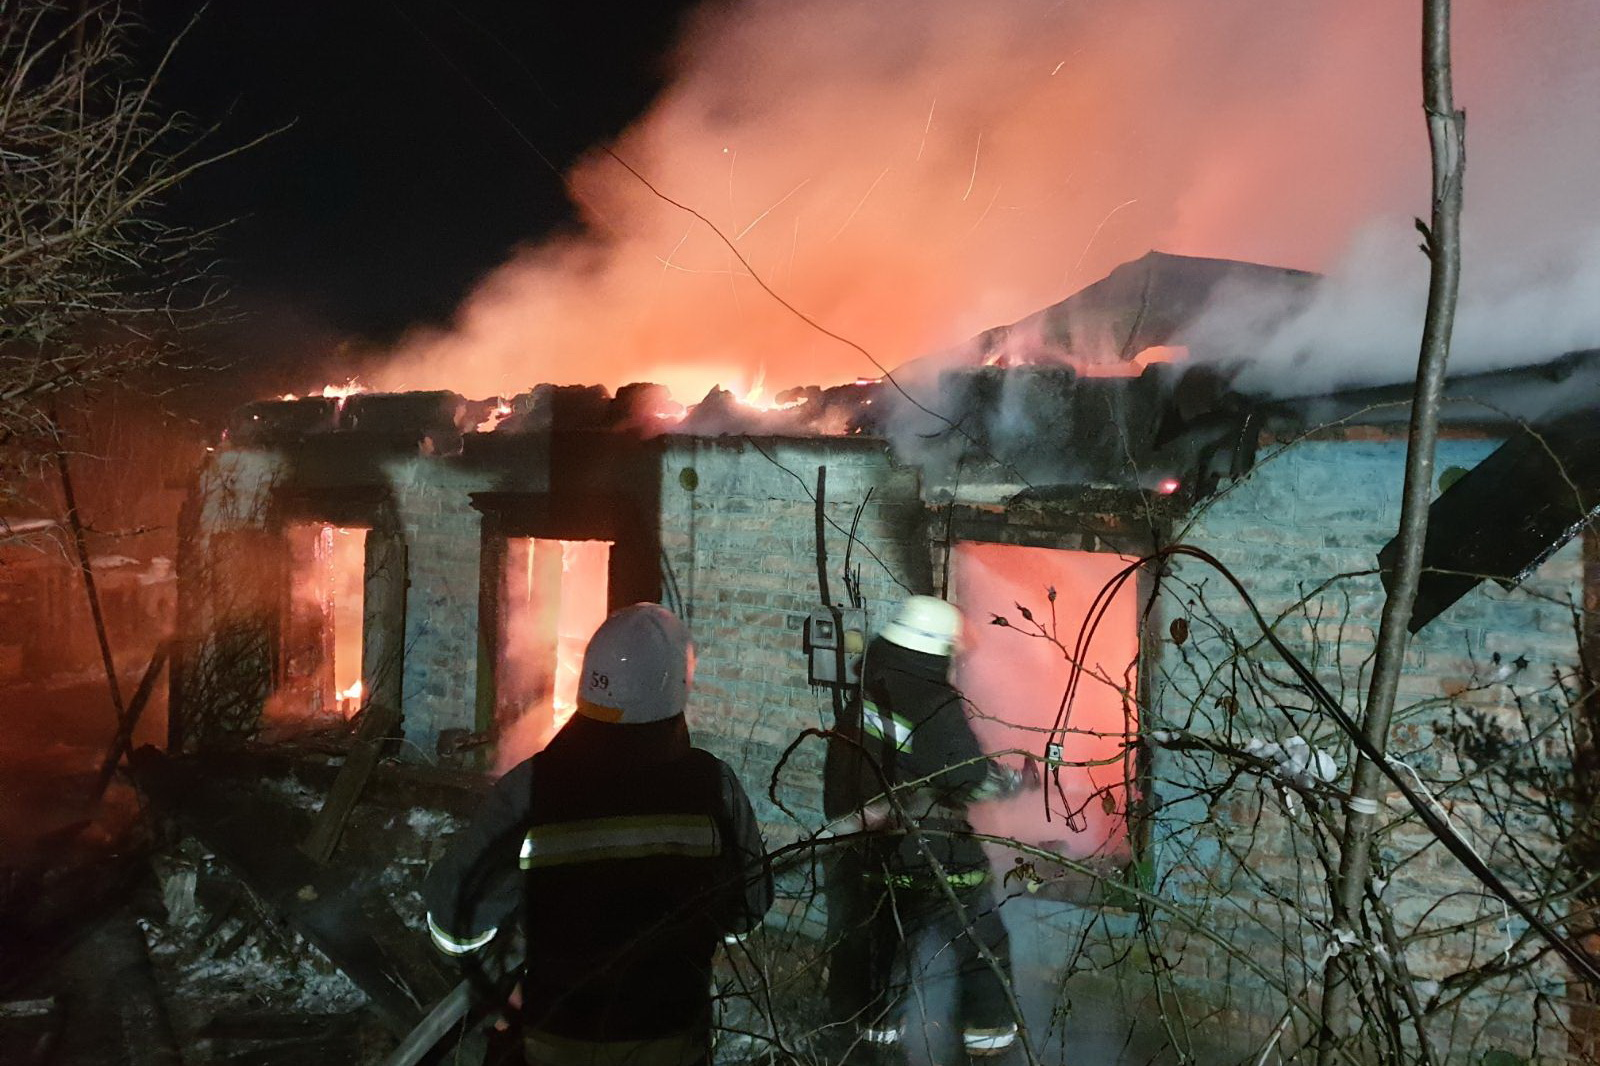fire: (585, 13, 1520, 424), (962, 550, 1124, 841), (261, 521, 378, 709), (478, 551, 578, 717)
